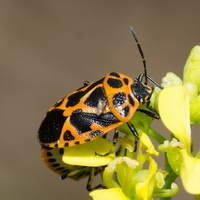insect: (38, 72, 151, 188)
